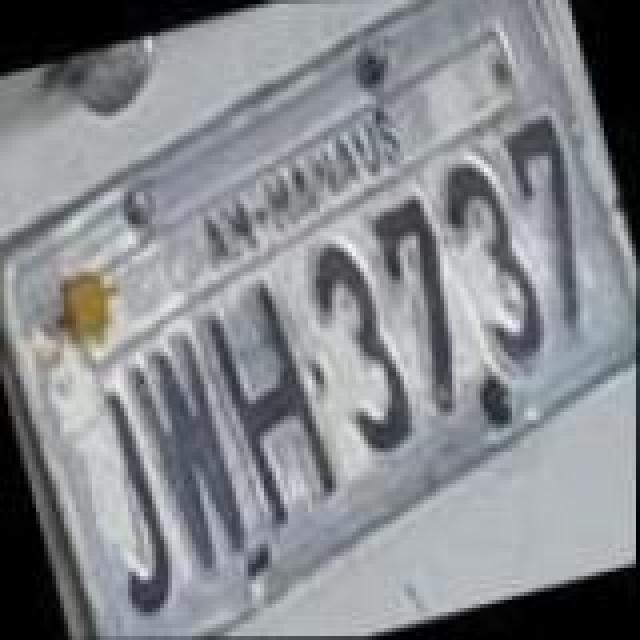3: (428, 148, 556, 380), (298, 230, 422, 466)
7: (362, 186, 482, 426), (496, 106, 612, 342)
H: (196, 272, 348, 536)
J: (76, 380, 188, 624)
W: (116, 320, 256, 580)
